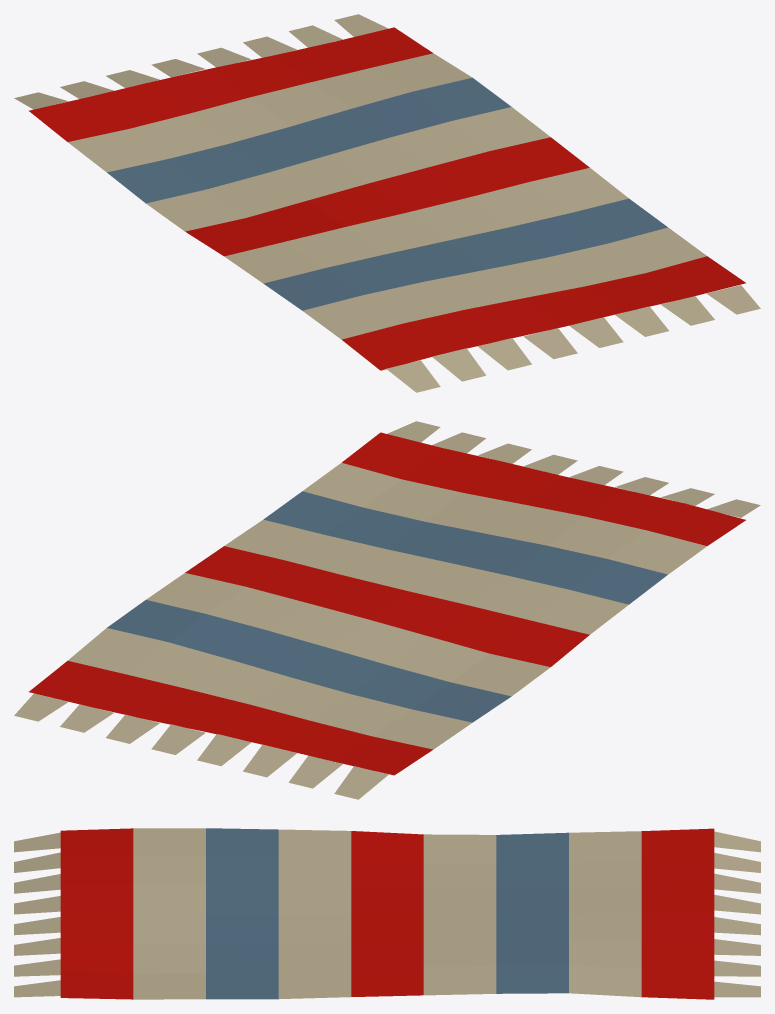
File: beach-towel.glb
3 views of the same model, one above another, from view 1: azimuth 30°, elevation 25°; view 2: azimuth 150°, elevation 25°; view 3: azimuth 270°, elevation 25° (orthographic). The views are drawn at different scales.
Visible parts, largest first — view 1: towel, towel-fringe; view 2: towel, towel-fringe; view 3: towel, towel-fringe.
Part boxes in pixels (box(x1,y1,x2,y2)): towel: box(29, 27, 745, 370); towel-fringe: box(14, 14, 760, 392); towel: box(29, 432, 745, 775); towel-fringe: box(14, 421, 760, 799); towel: box(60, 828, 714, 999); towel-fringe: box(14, 831, 760, 997).
Size of the model in its own units: 0.42 by 0.0113 by 0.8.
